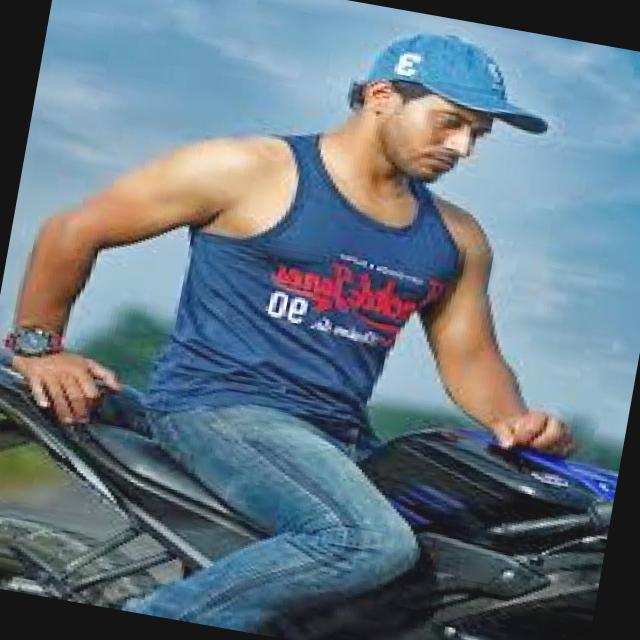no_vest: (137, 108, 478, 457)
